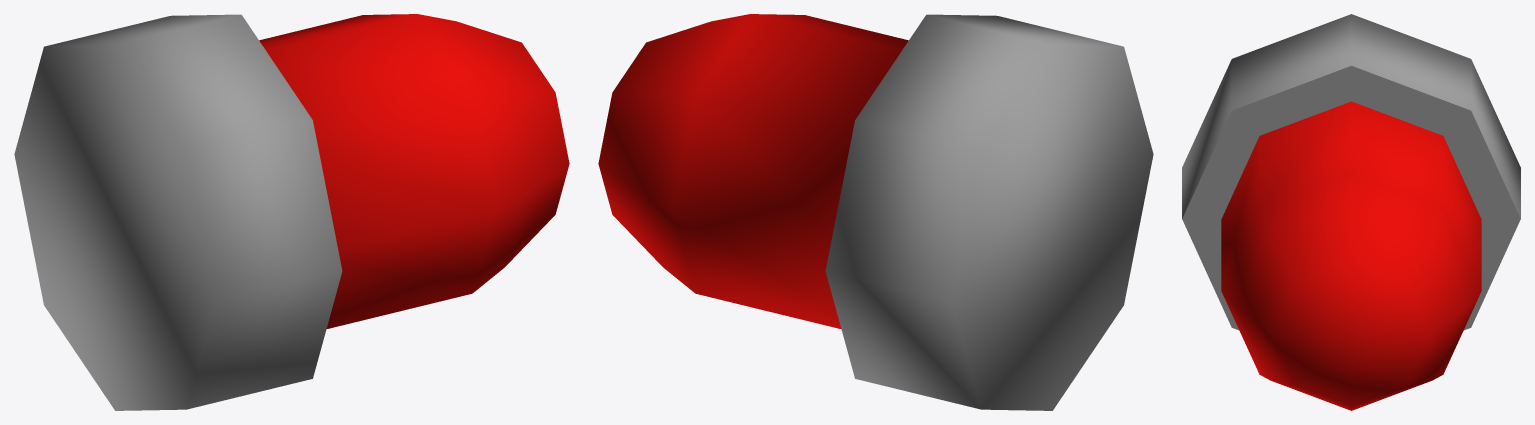
File: alarm.glb
The picture shows the model from 3 angles, left to right: view 1: azimuth 30°, elevation 25°; view 2: azimuth 150°, elevation 25°; view 3: azimuth 270°, elevation 25°; orthographic projection. The views are drawn at different scales.
Parts seen in each view (by area): view 1: alarm; view 2: alarm; view 3: alarm.
Part boxes in pixels (x1,y1,x2,y2): alarm: [14, 14, 569, 410]; alarm: [598, 14, 1153, 410]; alarm: [1182, 14, 1520, 410].
Size of the model in its own units: 0.2319 by 0.1898 by 0.1898.
